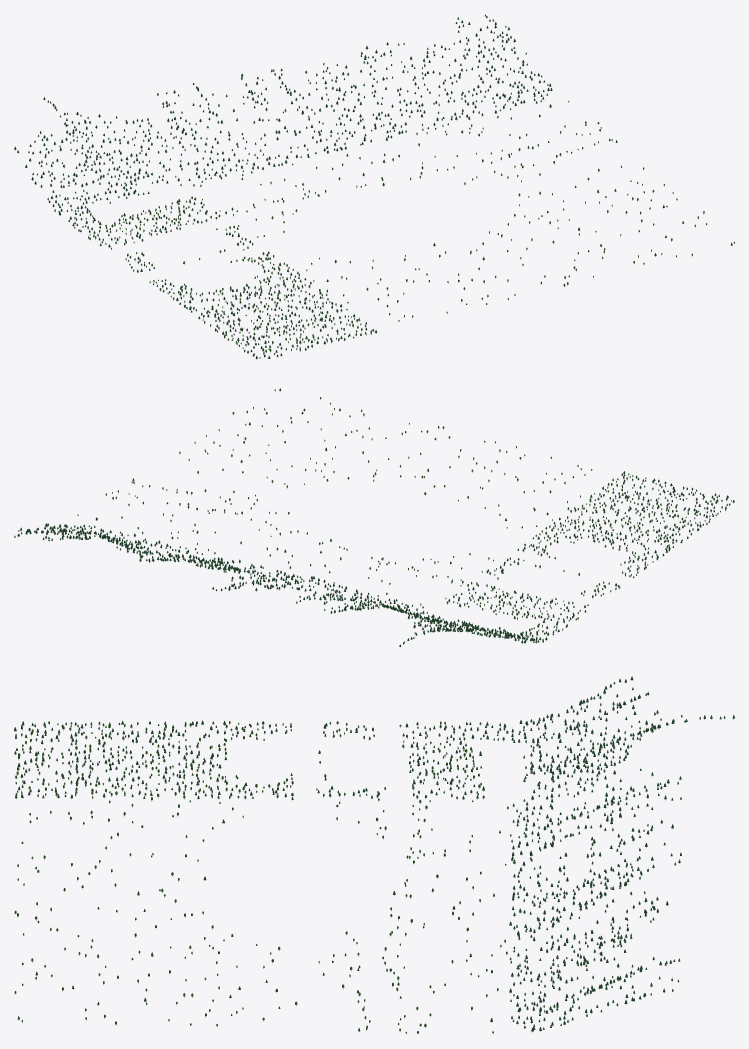
The model's file is trees.obj.
The picture shows the model from 3 angles, top to bottom: view 1: azimuth 30°, elevation 25°; view 2: azimuth 150°, elevation 25°; view 3: azimuth 270°, elevation 25°; orthographic projection. The views are drawn at different scales.
Visible parts, largest first — view 1: Trees_1_1_Pine; view 2: no part large enough to name; view 3: Trees_1_1_Pine, Trees_0_1_Pine, Trees_7_1_Pine.
Boxes of the visible parts, x1,y1,x2,y2 form: Trees_1_1_Pine: (72,114,160,177); Trees_1_1_Pine: (564,720,656,784); Trees_0_1_Pine: (564,676,655,750); Trees_7_1_Pine: (563,949,654,1024).
Size of the model in its own units: 1978 by 165 by 1940.
Materials: 3 (3 with a texture image).
